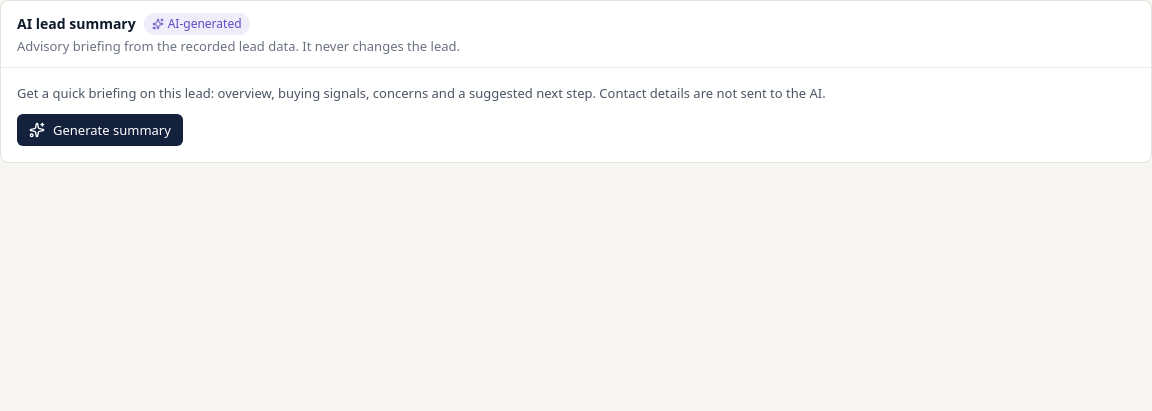
Scenario: AI lead summary › reports a failed generation with a retry, keeping the previous summary
Click the button "Generate summary" at (100, 130), box [17, 114, 183, 146]
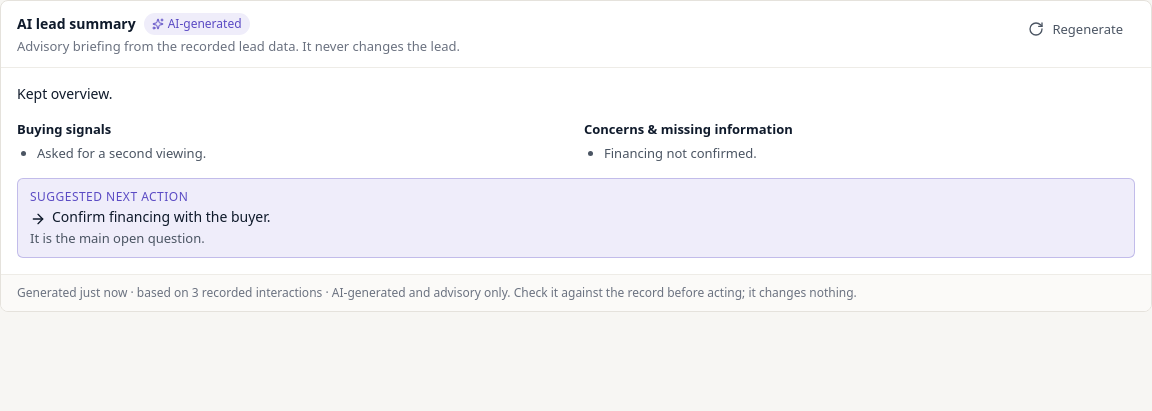
Check: the text "Kept overview." is shown, box [17, 84, 112, 103]
Click the button with aria-label "regenerate ai summary" at (1076, 29), box [1016, 13, 1135, 45]
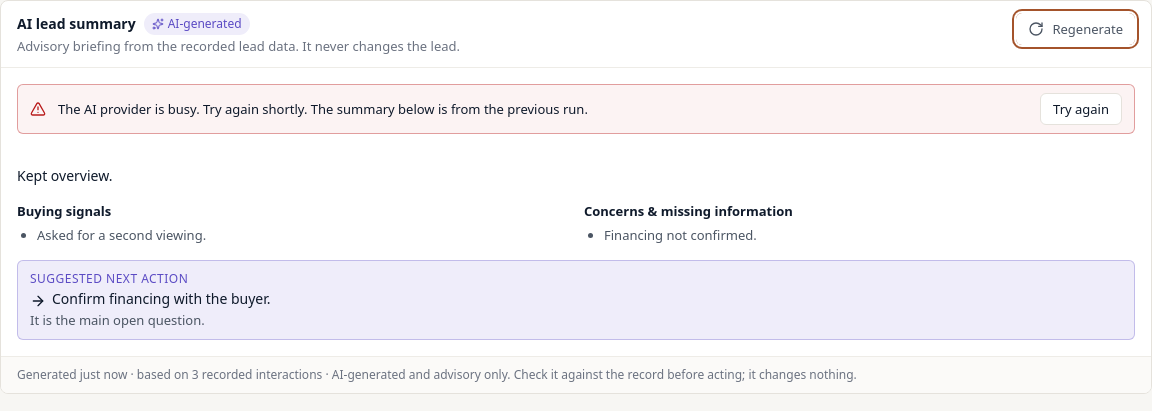
Check: the text "Kept overview." is shown, box [17, 166, 112, 185]
Click the button "Try again" at (1081, 109), box [1040, 93, 1122, 125]
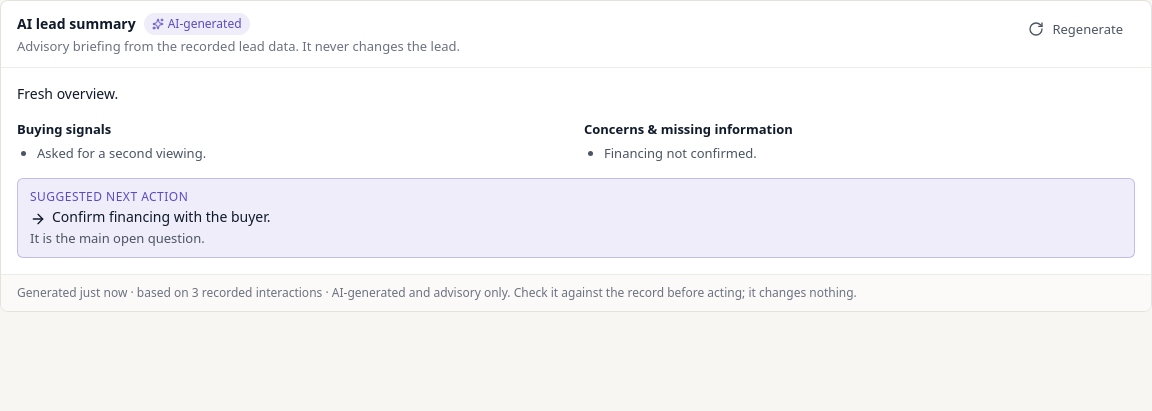
Check: the text "Fresh overview." is shown, box [17, 84, 118, 103]
Check: the message is gone
